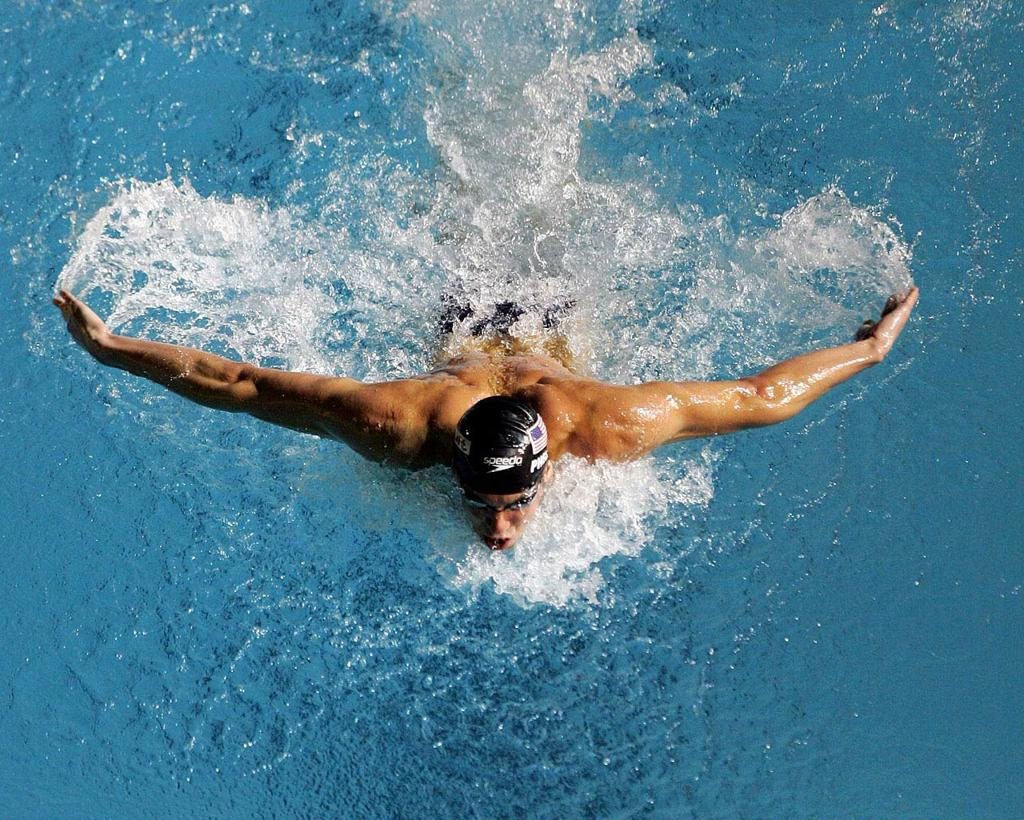face: (454, 468, 542, 556)
